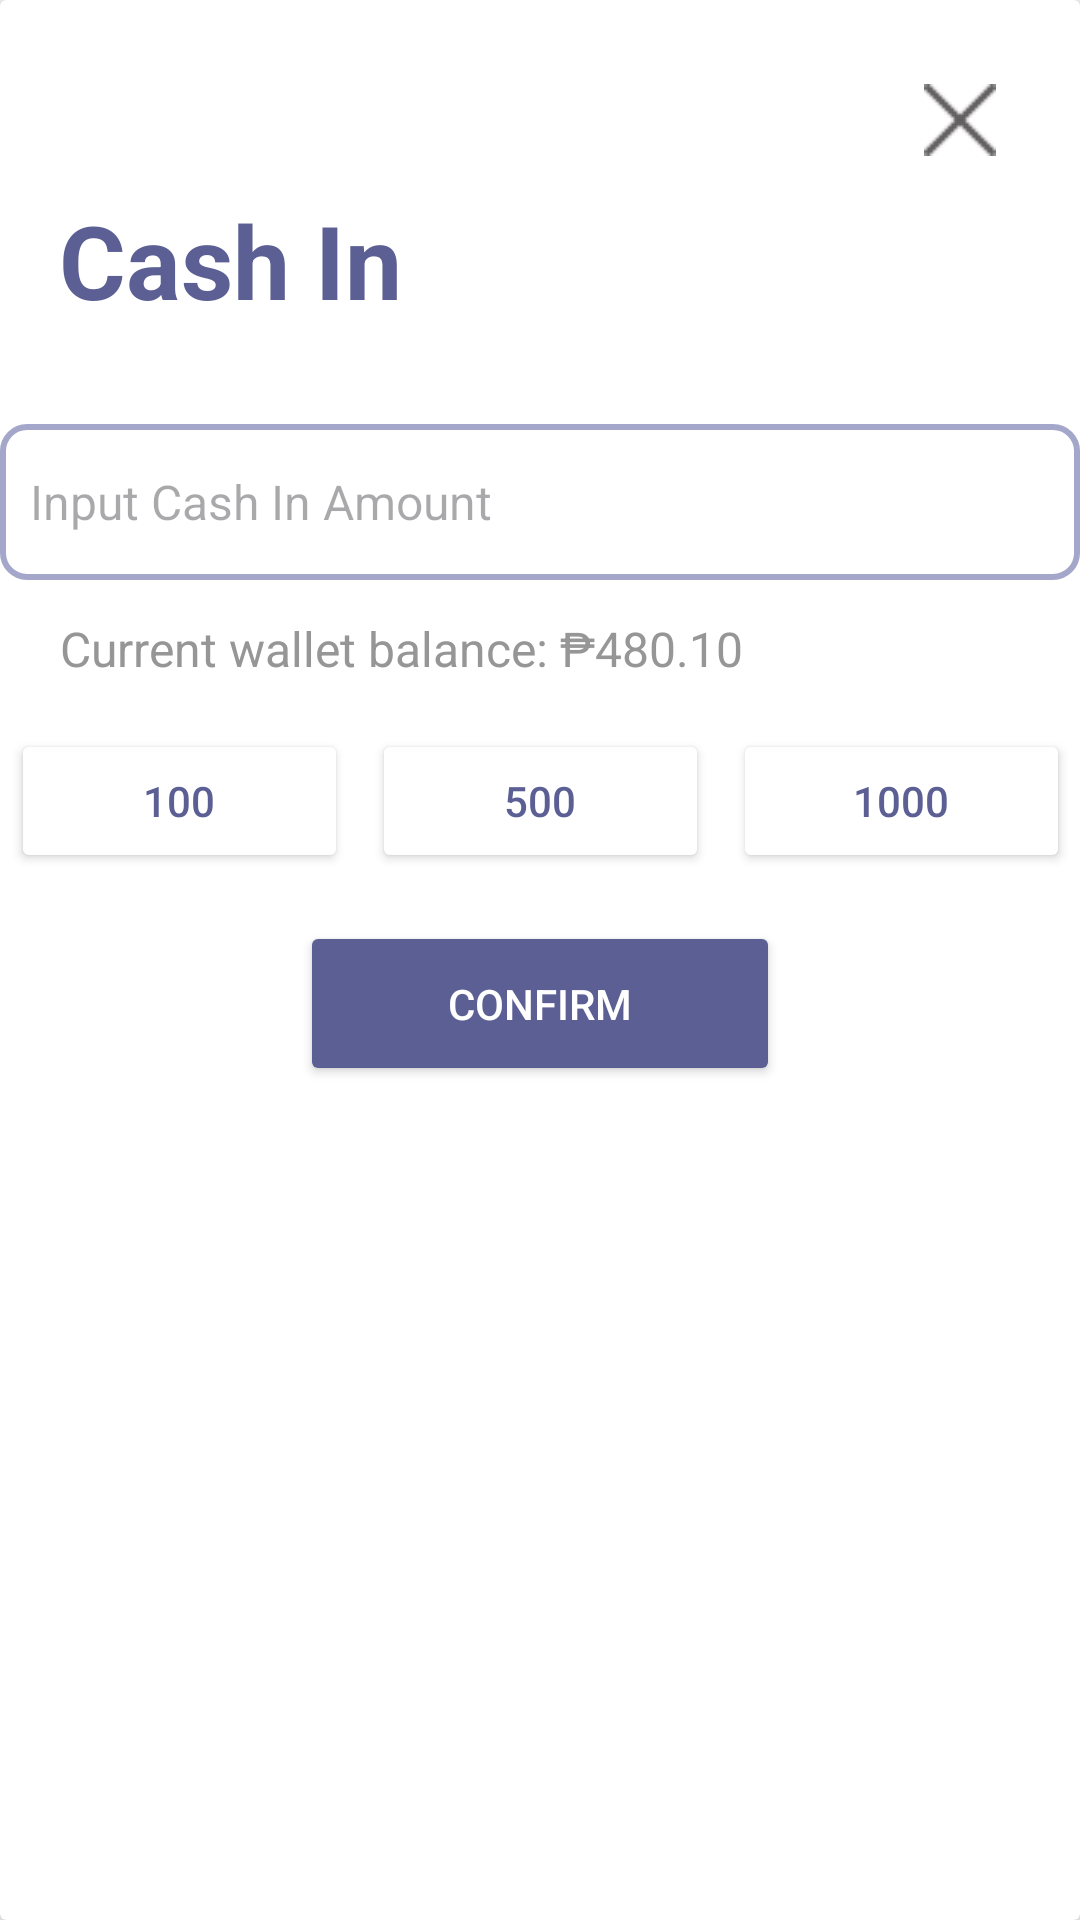

Locate icon controls on the screen. Image size 1080 x 1920, boxes as (x1, y1, x2, y2).
Close the dialog: (924, 84, 996, 156)
